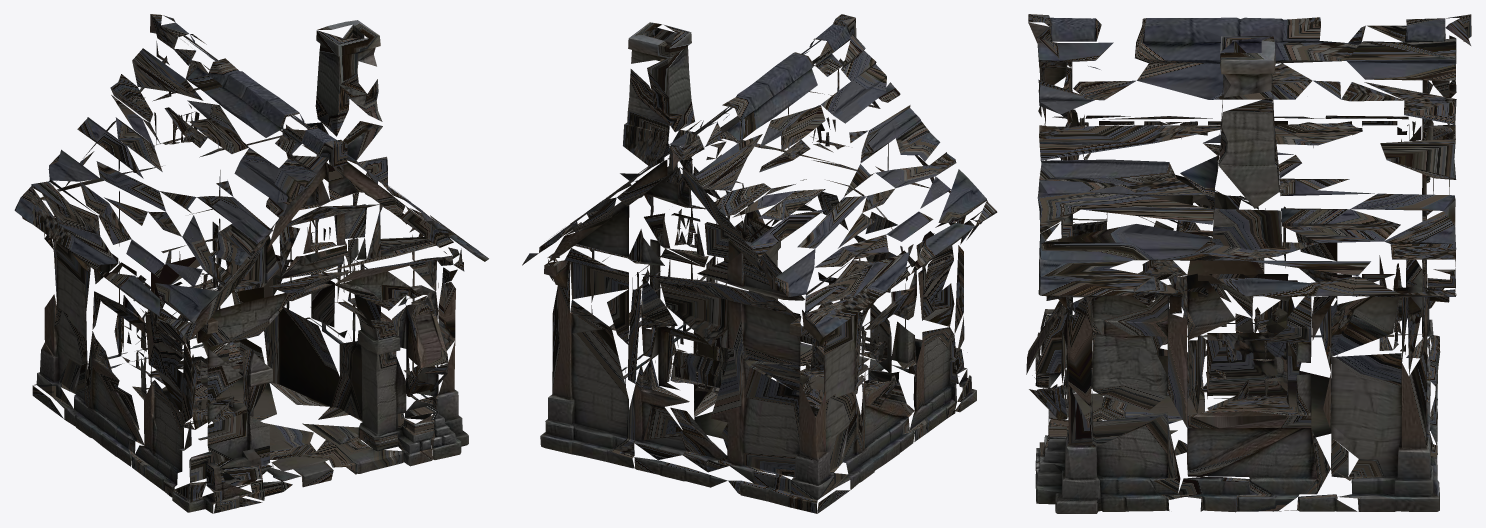
Rendered from bld_ws_forge_a_LOD1.glb.
The picture shows the model from 3 angles, left to right: view 1: azimuth 30°, elevation 25°; view 2: azimuth 150°, elevation 25°; view 3: azimuth 270°, elevation 25°; orthographic projection. The views are drawn at different scales.
Parts seen in each view (by area): view 1: geometry_0; view 2: geometry_0; view 3: geometry_0.
Part boxes in pixels (x1,y1,x2,y2): geometry_0: (14,14,488,513); geometry_0: (522,14,997,513); geometry_0: (1026,14,1471,513).
Bounding box in the file's own units: 6.15 × 6.99 × 6.36.
1 material, 1 textured.
